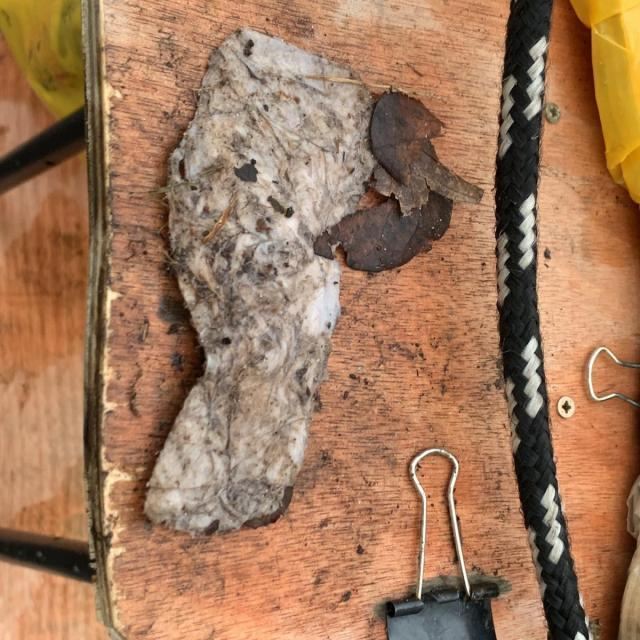Paper: (142, 26, 380, 540)
